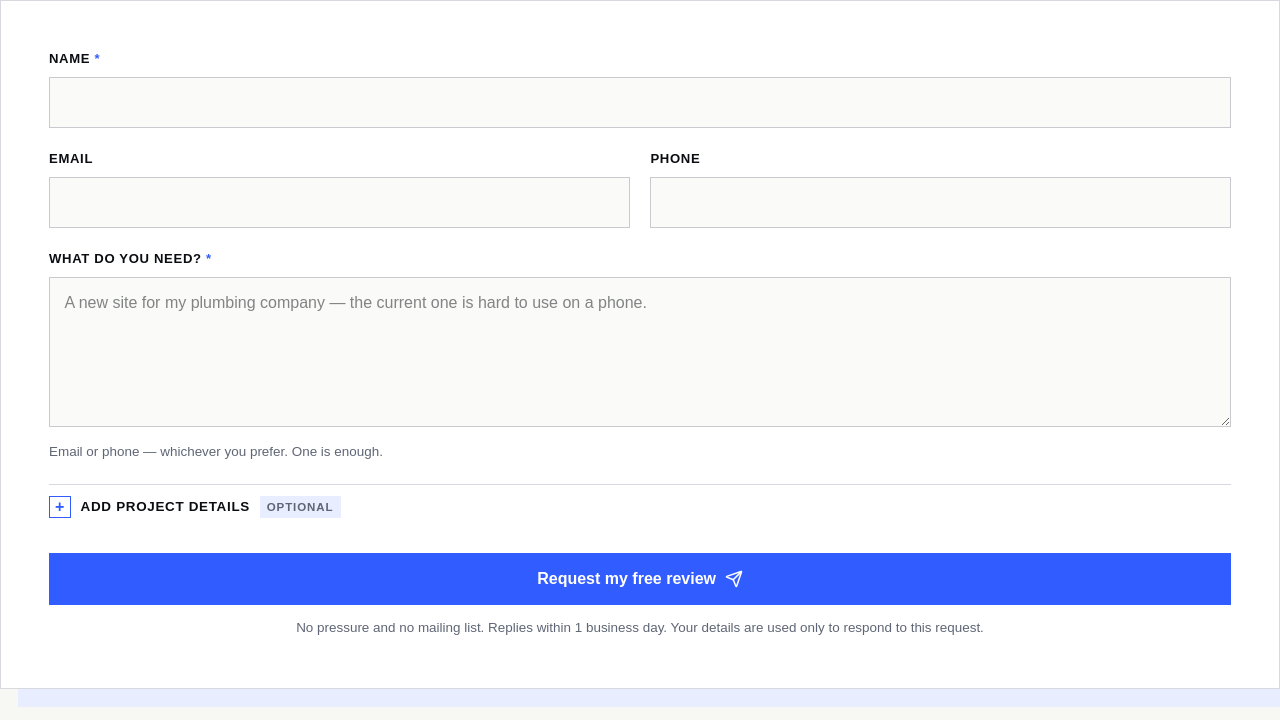
Test case: contact form › shows accessible errors without making a request
Click the button "Request my free review".
click(640, 579)  # box [49,553,1231,605]
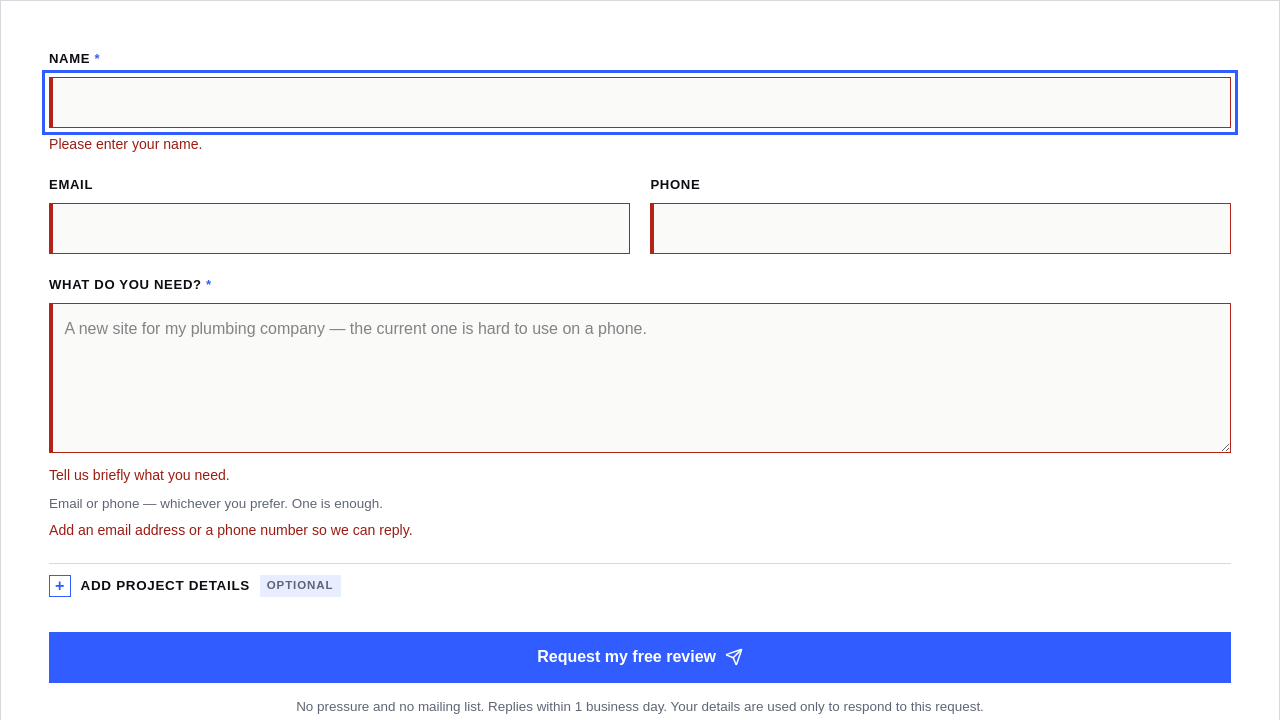
Result: the number of messages is 3 at [49,136,202,152]; [49,467,230,483]; [49,522,413,538]
